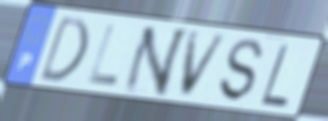D: (36, 13, 91, 84)
L: (84, 21, 121, 88), (258, 41, 291, 110)
N: (119, 26, 193, 99)
S: (218, 37, 266, 105)
V: (177, 30, 231, 101)
